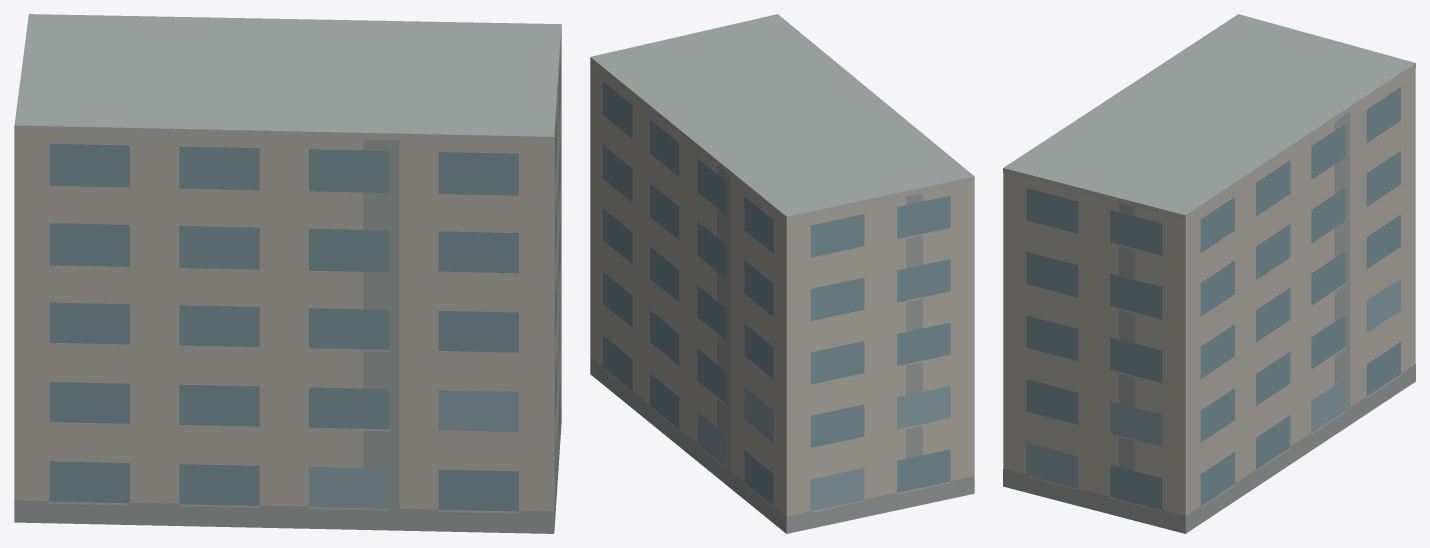
File: survey-upis-32885980.glb
3 renders of one model, left to right at view 1: azimuth 30°, elevation 25°; view 2: azimuth 150°, elevation 25°; view 3: azimuth 270°, elevation 25°, orthographic. The views are drawn at different scales.
Visible parts, largest first — view 1: survey-upis-32885980.tmp; view 2: survey-upis-32885980.tmp; view 3: survey-upis-32885980.tmp.
Part boxes in pixels (x1,y1,x2,y2): survey-upis-32885980.tmp: (14, 14, 561, 533); survey-upis-32885980.tmp: (590, 14, 974, 533); survey-upis-32885980.tmp: (1003, 14, 1415, 533).
Bounding box in the file's own units: 19.52 × 14.4 × 16.91.
